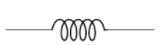inductor: (47, 16, 108, 42)
